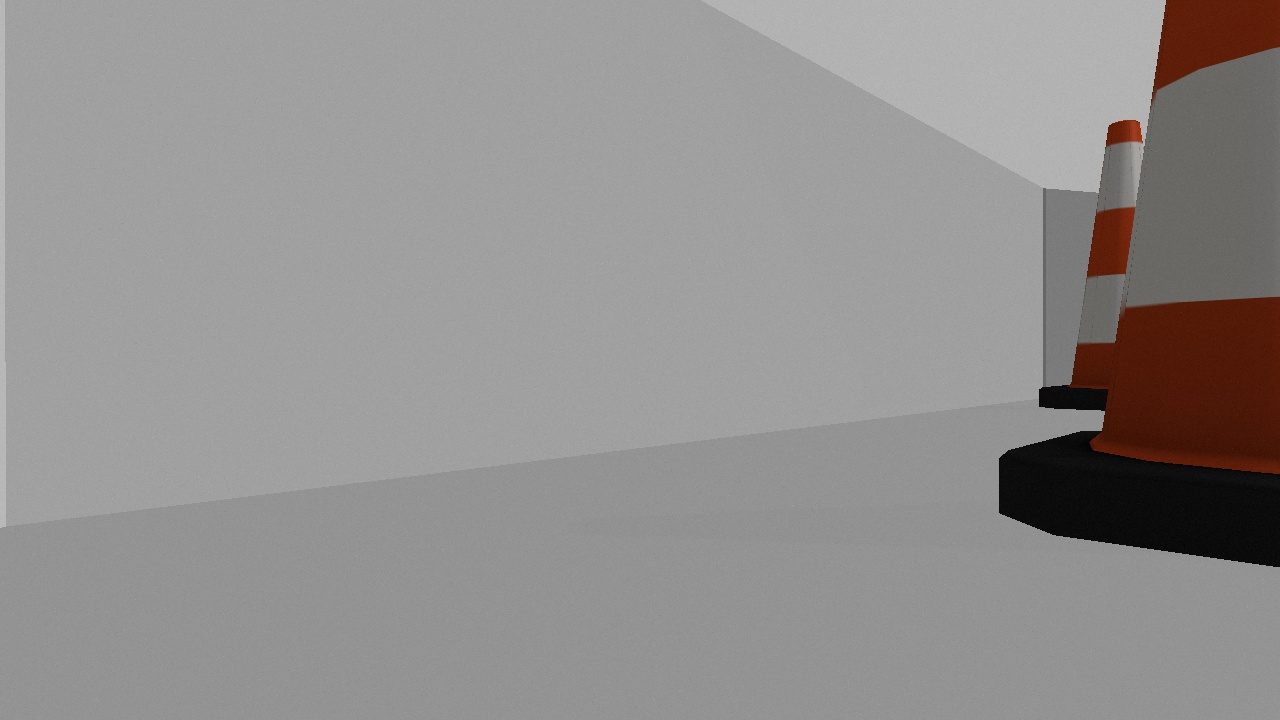barricade: (1000, 1, 1280, 573), (1039, 121, 1187, 414)
